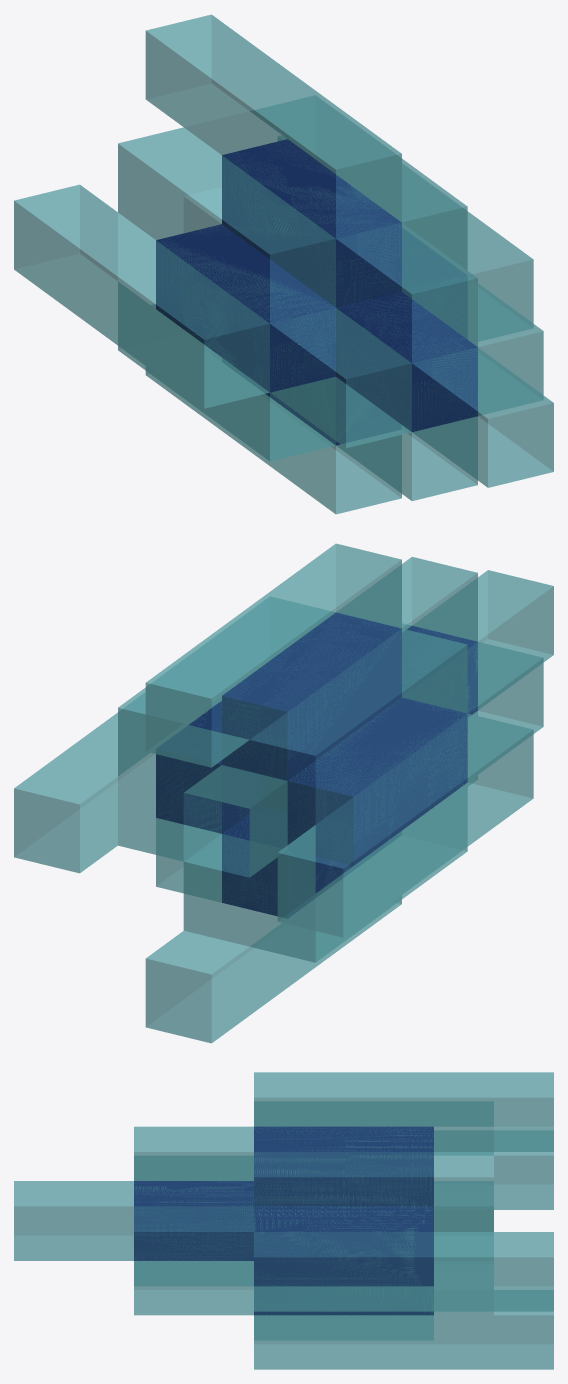
File: spike.glb
3 renders of one model, top to bottom at view 1: azimuth 30°, elevation 25°; view 2: azimuth 150°, elevation 25°; view 3: azimuth 270°, elevation 25°, orthographic. The views are drawn at different scales.
Visible parts, largest first — view 1: Untitled.001, Untitled; view 2: Untitled.001, Untitled; view 3: Untitled.001, Untitled.
Part boxes in pixels (<box>): Untitled.001: <box>14,14,553,514</box>; Untitled: <box>156,139,477,445</box>; Untitled.001: <box>14,543,553,1043</box>; Untitled: <box>156,612,477,915</box>; Untitled.001: <box>14,1072,553,1369</box>; Untitled: <box>134,1126,433,1315</box>.
Bounding box in the file's own units: 0.5 × 0.5 × 0.9.
